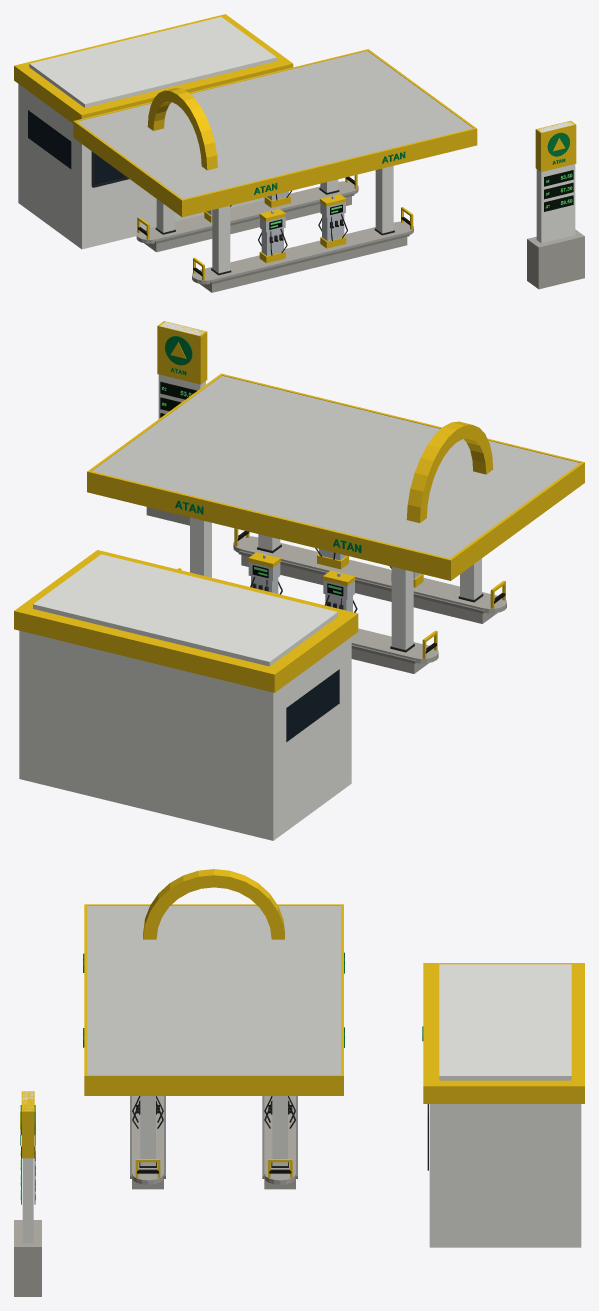
File: azs_atan.glb
3 views of the same model, one above another, from view 1: azimuth 30°, elevation 25°; view 2: azimuth 150°, elevation 25°; view 3: azimuth 270°, elevation 25° (orthographic). The views are drawn at different scales.
Parts seen in each view (by area): view 1: azs_atan_canopy, azs_atan_shop_wall, azs_atan_brand, azs_atan_concrete, azs_atan_shop_band, azs_atan_clad, azs_atan_stela, azs_atan_shop_glass, azs_atan_pump, azs_atan_stela2, azs_atan_curb, azs_atan_pump2 (+3 smaller); view 2: azs_atan_shop_wall, azs_atan_canopy, azs_atan_brand, azs_atan_shop_band, azs_atan_concrete, azs_atan_clad, azs_atan_stela2, azs_atan_shop_glass, azs_atan_pump, azs_atan_pump2, azs_atan_curb, azs_atan_stela; view 3: azs_atan_canopy, azs_atan_shop_wall, azs_atan_brand, azs_atan_shop_band, azs_atan_concrete, azs_atan_clad, azs_atan_stela, azs_atan_stela2, azs_atan_metal, azs_atan_curb.
Part boxes in pixels (x1,y1,x2,y2): azs_atan_canopy: [77, 51, 472, 198]; azs_atan_shop_wall: [18, 17, 276, 249]; azs_atan_brand: [73, 49, 477, 217]; azs_atan_concrete: [136, 181, 584, 292]; azs_atan_shop_band: [14, 14, 293, 123]; azs_atan_clad: [156, 166, 393, 273]; azs_atan_stela: [536, 121, 575, 243]; azs_atan_shop_glass: [28, 110, 126, 184]; azs_atan_pump: [206, 191, 345, 255]; azs_atan_stela2: [535, 120, 576, 172]; azs_atan_curb: [155, 192, 409, 284]; azs_atan_pump2: [204, 194, 346, 263]; azs_atan_shop_wall: [19, 554, 351, 840]; azs_atan_canopy: [92, 376, 579, 558]; azs_atan_brand: [87, 373, 584, 580]; azs_atan_shop_band: [14, 550, 358, 692]; azs_atan_concrete: [146, 507, 506, 673]; azs_atan_clad: [190, 517, 481, 649]; azs_atan_stela2: [157, 321, 207, 384]; azs_atan_shop_glass: [286, 669, 339, 741]; azs_atan_pump: [248, 549, 420, 611]; azs_atan_pump2: [248, 552, 423, 587]; azs_atan_curb: [238, 550, 484, 663]; azs_atan_stela: [158, 322, 205, 418]; azs_atan_canopy: [87, 906, 340, 1074]; azs_atan_shop_wall: [429, 964, 581, 1247]; azs_atan_brand: [84, 869, 343, 1095]; azs_atan_shop_band: [423, 963, 584, 1103]; azs_atan_concrete: [14, 1096, 295, 1296]; azs_atan_clad: [140, 1096, 287, 1165]; azs_atan_stela: [22, 1092, 33, 1243]; azs_atan_stela2: [21, 1091, 34, 1158]; azs_atan_metal: [132, 1096, 428, 1170]; azs_atan_curb: [130, 1096, 297, 1178].
Size of the model in its own units: 21 by 11.8 by 23.32.
